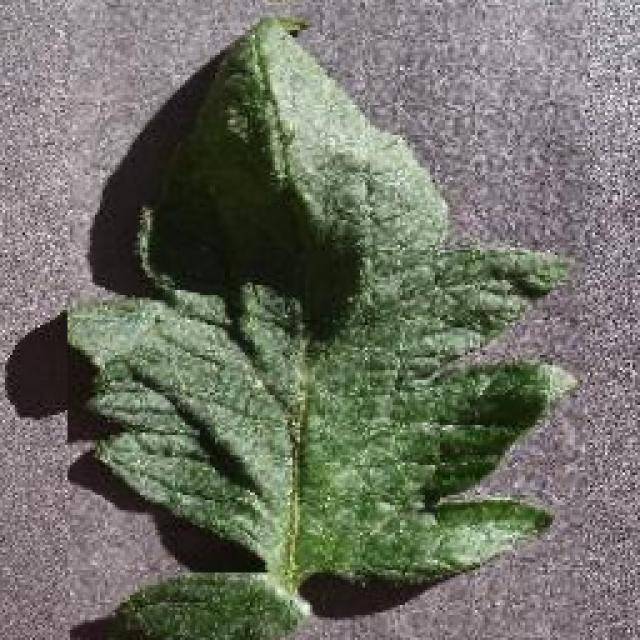Healthy: (68, 0, 588, 640)
